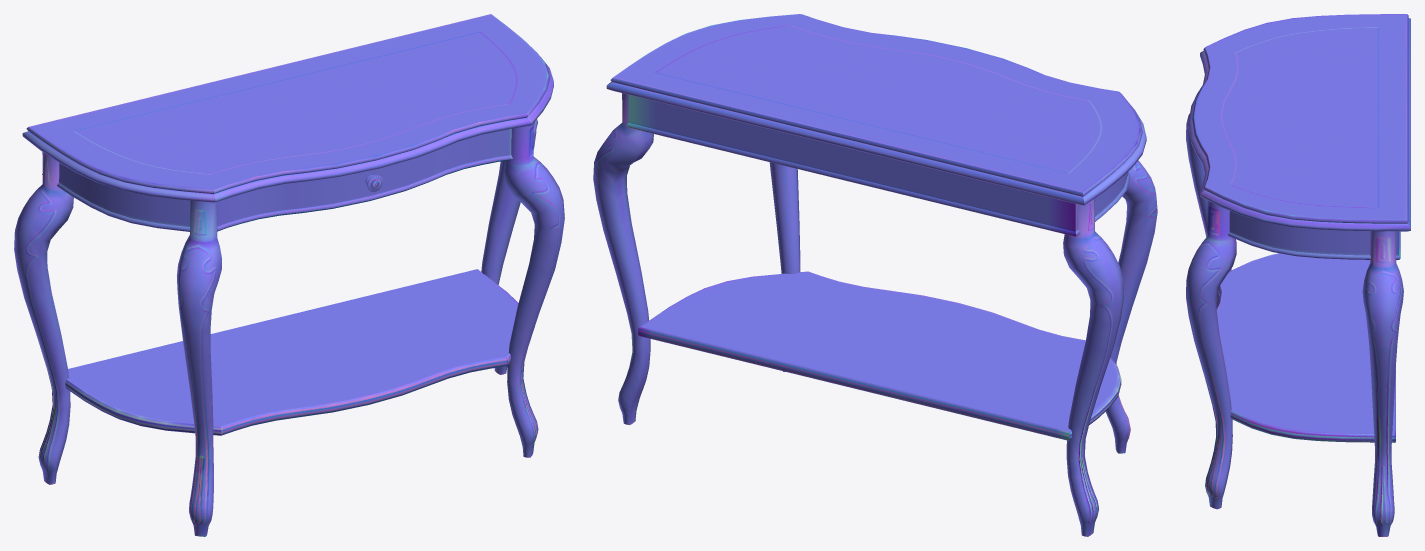
File: table02.FBX
3 renders of one model, left to right at view 1: azimuth 30°, elevation 25°; view 2: azimuth 150°, elevation 25°; view 3: azimuth 270°, elevation 25°, orthographic. The views are drawn at different scales.
Parts seen in each view (by area): view 1: Table, Shelf, Leg_LF, Leg_LR, Leg_RF, Leg_RR; view 2: Table, Shelf, Leg_LR, Leg_RR, Leg_LF, Leg_RF; view 3: Table, Shelf, Leg_RR, Leg_RF, Leg_LF.
Part boxes in pixels (<box>): Table: <box>22,14,553,231</box>; Shelf: <box>65,269,518,435</box>; Leg_LF: <box>177,200,221,536</box>; Leg_LR: <box>14,152,73,484</box>; Leg_RF: <box>504,123,564,457</box>; Leg_RR: <box>481,131,536,374</box>; Table: <box>606,14,1146,236</box>; Shelf: <box>638,271,1121,440</box>; Leg_LR: <box>1063,198,1123,536</box>; Leg_RR: <box>593,93,653,424</box>; Leg_LF: <box>1105,160,1157,453</box>; Leg_RF: <box>769,162,800,371</box>; Table: <box>1188,14,1410,259</box>; Shelf: <box>1216,253,1395,442</box>; Leg_RR: <box>1362,231,1403,536</box>; Leg_RF: <box>1186,201,1236,509</box>; Leg_LF: <box>1186,113,1231,307</box>.
Size of the model in its own units: 117 by 75.44 by 48.48.
